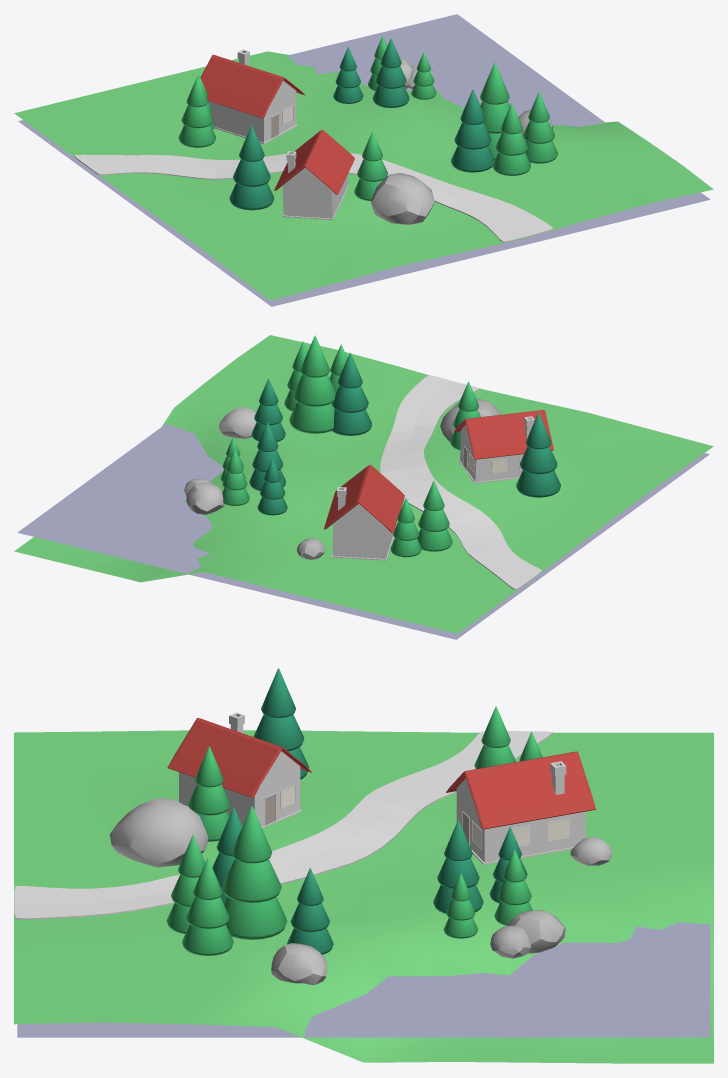
File: test_map_spiek.glb
3 renders of one model, top to bottom at view 1: azimuth 30°, elevation 25°; view 2: azimuth 150°, elevation 25°; view 3: azimuth 270°, elevation 25°, orthographic. The views are drawn at different scales.
Visible parts, largest first — view 1: Plane.001; view 2: Plane.001; view 3: Plane.001.
Part boxes in pixels (x1=…): Plane.001: x1=14, y1=14, x2=713, y2=306; Plane.001: x1=14, y1=335, x2=713, y2=639; Plane.001: x1=14, y1=668, x2=713, y2=1063.
Bounding box in the file's own units: 9.26 × 2.47 × 9.26.
